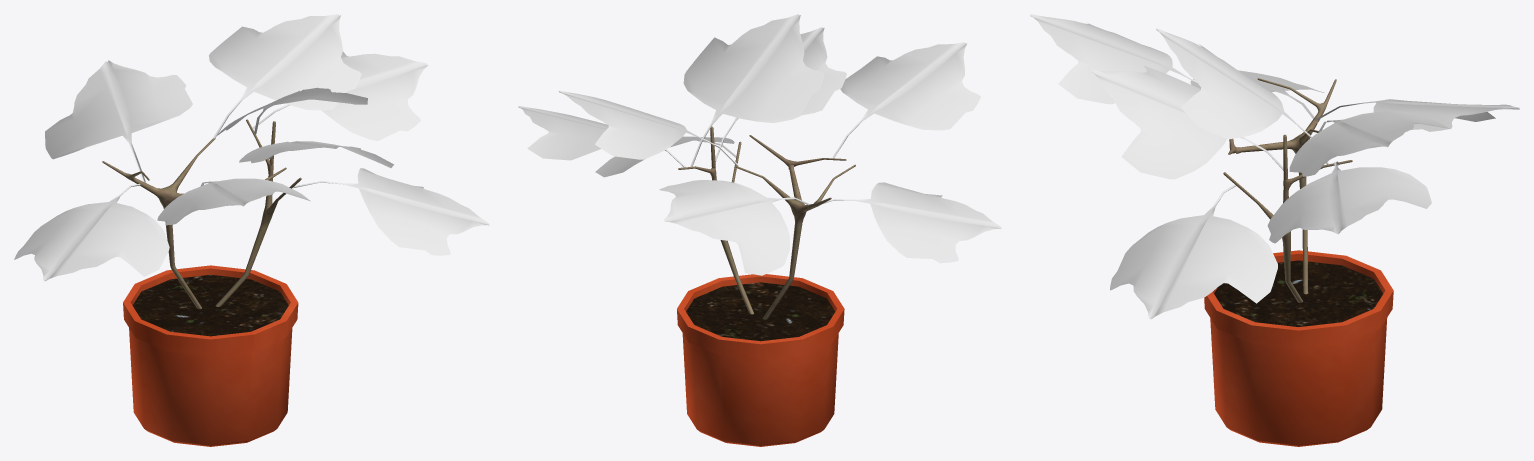
The model's file is Plants_Pots_12.fbx.
3 renders of one model, left to right at view 1: azimuth 30°, elevation 25°; view 2: azimuth 150°, elevation 25°; view 3: azimuth 270°, elevation 25°, orthographic. The views are drawn at different scales.
Parts seen in each view (by area): view 1: Cylinder.015; view 2: Cylinder.015; view 3: Cylinder.015.
Boxes of the visible parts, x1=… form: Cylinder.015: x1=14, y1=14, x2=489, y2=446; Cylinder.015: x1=518, y1=14, x2=1001, y2=446; Cylinder.015: x1=1030, y1=14, x2=1519, y2=446.
Bounding box in the file's own units: 46.8 × 36.95 × 41.15.
